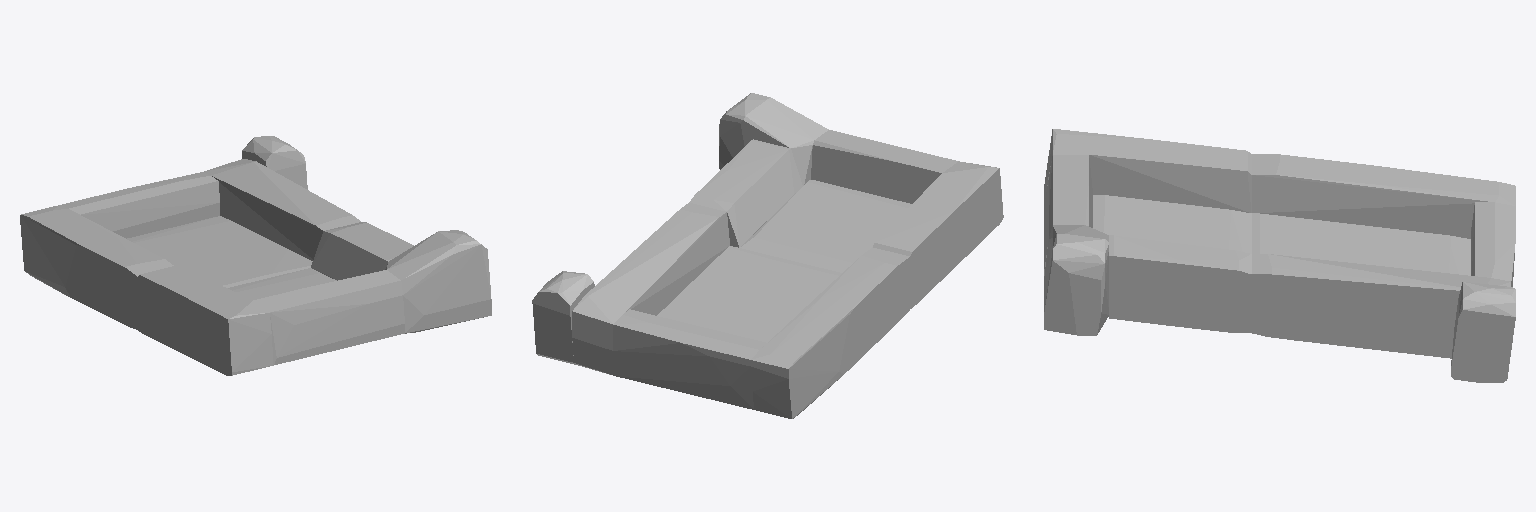
robot.urdf — root:
<robot name="root">
  <link name="link_thingiverse~hinged_lid_236246_convex_piece_0">
    <inertial>
      <origin rpy="0 0 0" xyz="0 0 0"/>
      <mass value="5.72E-02"/>
      <inertia ixx="1.08E-04" ixy="8.49E-05" ixz="-1.48E-05" iyy="9.02E-05" iyz="-1.71E-05" izz="1.89E-04"/>
    </inertial>
    <visual>
      <origin rpy="0 0 0" xyz="0 0 0"/>
      <geometry>
        <mesh filename="thingiverse~hinged_lid_236246_convex_piece_0.obj" scale="1.0000E+00 1.0000E+00 1.0000E+00"/>
      </geometry>
      <material name="">
        <color rgba="7.50E-01 7.50E-01 7.50E-01 1"/>
      </material>
    </visual>
    <collision>
      <origin rpy="0 0 0" xyz="0 0 0"/>
      <geometry>
        <mesh filename="thingiverse~hinged_lid_236246_convex_piece_0.obj" scale="1.0000E+00 1.0000E+00 1.0000E+00"/>
      </geometry>
    </collision>
  </link>
  <link name="link_thingiverse~hinged_lid_236246_convex_piece_1">
    <inertial>
      <origin rpy="0 0 0" xyz="0 0 0"/>
      <mass value="4.28E-02"/>
      <inertia ixx="1.65E-04" ixy="-9.58E-05" ixz="1.84E-05" iyy="7.04E-05" iyz="-2.93E-05" izz="2.20E-04"/>
    </inertial>
    <visual>
      <origin rpy="0 0 0" xyz="0 0 0"/>
      <geometry>
        <mesh filename="thingiverse~hinged_lid_236246_convex_piece_1.obj" scale="1.0000E+00 1.0000E+00 1.0000E+00"/>
      </geometry>
      <material name="">
        <color rgba="7.50E-01 7.50E-01 7.50E-01 1"/>
      </material>
    </visual>
    <collision>
      <origin rpy="0 0 0" xyz="0 0 0"/>
      <geometry>
        <mesh filename="thingiverse~hinged_lid_236246_convex_piece_1.obj" scale="1.0000E+00 1.0000E+00 1.0000E+00"/>
      </geometry>
    </collision>
  </link>
  <joint name="link_thingiverse~hinged_lid_236246_convex_piece_1_joint" type="fixed">
    <origin rpy="0 0 0" xyz="0 0 0"/>
    <parent link="link_thingiverse~hinged_lid_236246_convex_piece_0"/>
    <child link="link_thingiverse~hinged_lid_236246_convex_piece_1"/>
  </joint>
  <link name="link_thingiverse~hinged_lid_236246_convex_piece_2">
    <inertial>
      <origin rpy="0 0 0" xyz="0 0 0"/>
      <mass value="4.55E-02"/>
      <inertia ixx="4.94E-05" ixy="-4.05E-05" ixz="6.92E-06" iyy="4.52E-05" iyz="-7.49E-06" izz="8.91E-05"/>
    </inertial>
    <visual>
      <origin rpy="0 0 0" xyz="0 0 0"/>
      <geometry>
        <mesh filename="thingiverse~hinged_lid_236246_convex_piece_2.obj" scale="1.0000E+00 1.0000E+00 1.0000E+00"/>
      </geometry>
      <material name="">
        <color rgba="7.50E-01 7.50E-01 7.50E-01 1"/>
      </material>
    </visual>
    <collision>
      <origin rpy="0 0 0" xyz="0 0 0"/>
      <geometry>
        <mesh filename="thingiverse~hinged_lid_236246_convex_piece_2.obj" scale="1.0000E+00 1.0000E+00 1.0000E+00"/>
      </geometry>
    </collision>
  </link>
  <joint name="link_thingiverse~hinged_lid_236246_convex_piece_2_joint" type="fixed">
    <origin rpy="0 0 0" xyz="0 0 0"/>
    <parent link="link_thingiverse~hinged_lid_236246_convex_piece_1"/>
    <child link="link_thingiverse~hinged_lid_236246_convex_piece_2"/>
  </joint>
  <link name="link_thingiverse~hinged_lid_236246_convex_piece_3">
    <inertial>
      <origin rpy="0 0 0" xyz="0 0 0"/>
      <mass value="7.20E-02"/>
      <inertia ixx="1.07E-04" ixy="-8.43E-05" ixz="5.80E-06" iyy="1.10E-04" iyz="-9.09E-06" izz="2.11E-04"/>
    </inertial>
    <visual>
      <origin rpy="0 0 0" xyz="0 0 0"/>
      <geometry>
        <mesh filename="thingiverse~hinged_lid_236246_convex_piece_3.obj" scale="1.0000E+00 1.0000E+00 1.0000E+00"/>
      </geometry>
      <material name="">
        <color rgba="7.50E-01 7.50E-01 7.50E-01 1"/>
      </material>
    </visual>
    <collision>
      <origin rpy="0 0 0" xyz="0 0 0"/>
      <geometry>
        <mesh filename="thingiverse~hinged_lid_236246_convex_piece_3.obj" scale="1.0000E+00 1.0000E+00 1.0000E+00"/>
      </geometry>
    </collision>
  </link>
  <joint name="link_thingiverse~hinged_lid_236246_convex_piece_3_joint" type="fixed">
    <origin rpy="0 0 0" xyz="0 0 0"/>
    <parent link="link_thingiverse~hinged_lid_236246_convex_piece_2"/>
    <child link="link_thingiverse~hinged_lid_236246_convex_piece_3"/>
  </joint>
  <link name="link_thingiverse~hinged_lid_236246_convex_piece_4">
    <inertial>
      <origin rpy="0 0 0" xyz="0 0 0"/>
      <mass value="7.47E-02"/>
      <inertia ixx="1.13E-04" ixy="7.29E-05" ixz="-4.82E-06" iyy="7.85E-05" iyz="-9.17E-06" izz="1.84E-04"/>
    </inertial>
    <visual>
      <origin rpy="0 0 0" xyz="0 0 0"/>
      <geometry>
        <mesh filename="thingiverse~hinged_lid_236246_convex_piece_4.obj" scale="1.0000E+00 1.0000E+00 1.0000E+00"/>
      </geometry>
      <material name="">
        <color rgba="7.50E-01 7.50E-01 7.50E-01 1"/>
      </material>
    </visual>
    <collision>
      <origin rpy="0 0 0" xyz="0 0 0"/>
      <geometry>
        <mesh filename="thingiverse~hinged_lid_236246_convex_piece_4.obj" scale="1.0000E+00 1.0000E+00 1.0000E+00"/>
      </geometry>
    </collision>
  </link>
  <joint name="link_thingiverse~hinged_lid_236246_convex_piece_4_joint" type="fixed">
    <origin rpy="0 0 0" xyz="0 0 0"/>
    <parent link="link_thingiverse~hinged_lid_236246_convex_piece_3"/>
    <child link="link_thingiverse~hinged_lid_236246_convex_piece_4"/>
  </joint>
  <link name="link_thingiverse~hinged_lid_236246_convex_piece_5">
    <inertial>
      <origin rpy="0 0 0" xyz="0 0 0"/>
      <mass value="1.87E-02"/>
      <inertia ixx="7.26E-05" ixy="5.34E-05" ixz="-2.88E-06" iyy="4.18E-05" iyz="-3.72E-06" izz="1.12E-04"/>
    </inertial>
    <visual>
      <origin rpy="0 0 0" xyz="0 0 0"/>
      <geometry>
        <mesh filename="thingiverse~hinged_lid_236246_convex_piece_5.obj" scale="1.0000E+00 1.0000E+00 1.0000E+00"/>
      </geometry>
      <material name="">
        <color rgba="7.50E-01 7.50E-01 7.50E-01 1"/>
      </material>
    </visual>
    <collision>
      <origin rpy="0 0 0" xyz="0 0 0"/>
      <geometry>
        <mesh filename="thingiverse~hinged_lid_236246_convex_piece_5.obj" scale="1.0000E+00 1.0000E+00 1.0000E+00"/>
      </geometry>
    </collision>
  </link>
  <joint name="link_thingiverse~hinged_lid_236246_convex_piece_5_joint" type="fixed">
    <origin rpy="0 0 0" xyz="0 0 0"/>
    <parent link="link_thingiverse~hinged_lid_236246_convex_piece_4"/>
    <child link="link_thingiverse~hinged_lid_236246_convex_piece_5"/>
  </joint>
  <link name="link_thingiverse~hinged_lid_236246_convex_piece_6">
    <inertial>
      <origin rpy="0 0 0" xyz="0 0 0"/>
      <mass value="3.83E-02"/>
      <inertia ixx="1.55E-04" ixy="1.27E-05" ixz="-1.87E-06" iyy="1.35E-05" iyz="-2.20E-05" izz="1.60E-04"/>
    </inertial>
    <visual>
      <origin rpy="0 0 0" xyz="0 0 0"/>
      <geometry>
        <mesh filename="thingiverse~hinged_lid_236246_convex_piece_6.obj" scale="1.0000E+00 1.0000E+00 1.0000E+00"/>
      </geometry>
      <material name="">
        <color rgba="7.50E-01 7.50E-01 7.50E-01 1"/>
      </material>
    </visual>
    <collision>
      <origin rpy="0 0 0" xyz="0 0 0"/>
      <geometry>
        <mesh filename="thingiverse~hinged_lid_236246_convex_piece_6.obj" scale="1.0000E+00 1.0000E+00 1.0000E+00"/>
      </geometry>
    </collision>
  </link>
  <joint name="link_thingiverse~hinged_lid_236246_convex_piece_6_joint" type="fixed">
    <origin rpy="0 0 0" xyz="0 0 0"/>
    <parent link="link_thingiverse~hinged_lid_236246_convex_piece_5"/>
    <child link="link_thingiverse~hinged_lid_236246_convex_piece_6"/>
  </joint>
  <link name="link_thingiverse~hinged_lid_236246_convex_piece_7">
    <inertial>
      <origin rpy="0 0 0" xyz="0 0 0"/>
      <mass value="5.51E-02"/>
      <inertia ixx="6.69E-05" ixy="9.44E-06" ixz="1.19E-07" iyy="1.35E-05" iyz="-4.24E-07" izz="7.94E-05"/>
    </inertial>
    <visual>
      <origin rpy="0 0 0" xyz="0 0 0"/>
      <geometry>
        <mesh filename="thingiverse~hinged_lid_236246_convex_piece_7.obj" scale="1.0000E+00 1.0000E+00 1.0000E+00"/>
      </geometry>
      <material name="">
        <color rgba="7.50E-01 7.50E-01 7.50E-01 1"/>
      </material>
    </visual>
    <collision>
      <origin rpy="0 0 0" xyz="0 0 0"/>
      <geometry>
        <mesh filename="thingiverse~hinged_lid_236246_convex_piece_7.obj" scale="1.0000E+00 1.0000E+00 1.0000E+00"/>
      </geometry>
    </collision>
  </link>
  <joint name="link_thingiverse~hinged_lid_236246_convex_piece_7_joint" type="fixed">
    <origin rpy="0 0 0" xyz="0 0 0"/>
    <parent link="link_thingiverse~hinged_lid_236246_convex_piece_6"/>
    <child link="link_thingiverse~hinged_lid_236246_convex_piece_7"/>
  </joint>
  <link name="link_thingiverse~hinged_lid_236246_convex_piece_8">
    <inertial>
      <origin rpy="0 0 0" xyz="0 0 0"/>
      <mass value="8.21E-02"/>
      <inertia ixx="8.56E-05" ixy="-7.20E-06" ixz="2.23E-06" iyy="2.67E-05" iyz="-1.98E-05" izz="1.00E-04"/>
    </inertial>
    <visual>
      <origin rpy="0 0 0" xyz="0 0 0"/>
      <geometry>
        <mesh filename="thingiverse~hinged_lid_236246_convex_piece_8.obj" scale="1.0000E+00 1.0000E+00 1.0000E+00"/>
      </geometry>
      <material name="">
        <color rgba="7.50E-01 7.50E-01 7.50E-01 1"/>
      </material>
    </visual>
    <collision>
      <origin rpy="0 0 0" xyz="0 0 0"/>
      <geometry>
        <mesh filename="thingiverse~hinged_lid_236246_convex_piece_8.obj" scale="1.0000E+00 1.0000E+00 1.0000E+00"/>
      </geometry>
    </collision>
  </link>
  <joint name="link_thingiverse~hinged_lid_236246_convex_piece_8_joint" type="fixed">
    <origin rpy="0 0 0" xyz="0 0 0"/>
    <parent link="link_thingiverse~hinged_lid_236246_convex_piece_7"/>
    <child link="link_thingiverse~hinged_lid_236246_convex_piece_8"/>
  </joint>
  <link name="link_thingiverse~hinged_lid_236246_convex_piece_9">
    <inertial>
      <origin rpy="0 0 0" xyz="0 0 0"/>
      <mass value="3.72E-02"/>
      <inertia ixx="1.55E-04" ixy="-8.84E-06" ixz="8.42E-07" iyy="1.21E-05" iyz="-1.51E-05" izz="1.62E-04"/>
    </inertial>
    <visual>
      <origin rpy="0 0 0" xyz="0 0 0"/>
      <geometry>
        <mesh filename="thingiverse~hinged_lid_236246_convex_piece_9.obj" scale="1.0000E+00 1.0000E+00 1.0000E+00"/>
      </geometry>
      <material name="">
        <color rgba="7.50E-01 7.50E-01 7.50E-01 1"/>
      </material>
    </visual>
    <collision>
      <origin rpy="0 0 0" xyz="0 0 0"/>
      <geometry>
        <mesh filename="thingiverse~hinged_lid_236246_convex_piece_9.obj" scale="1.0000E+00 1.0000E+00 1.0000E+00"/>
      </geometry>
    </collision>
  </link>
  <joint name="link_thingiverse~hinged_lid_236246_convex_piece_9_joint" type="fixed">
    <origin rpy="0 0 0" xyz="0 0 0"/>
    <parent link="link_thingiverse~hinged_lid_236246_convex_piece_8"/>
    <child link="link_thingiverse~hinged_lid_236246_convex_piece_9"/>
  </joint>
</robot>

--- Render facts (derived) ---
3 views of the same robot in one strip: view 1: azimuth 30°, elevation 25°; view 2: azimuth 150°, elevation 25°; view 3: azimuth 270°, elevation 25° (orthographic).
Model root with 10 links and 9 joints (9 fixed), rooted at link_thingiverse~hinged_lid_236246_convex_piece_0, posed all joints at 0.
Visible links, largest first — view 1: link_thingiverse~hinged_lid_236246_convex_piece_0, link_thingiverse~hinged_lid_236246_convex_piece_3, link_thingiverse~hinged_lid_236246_convex_piece_6, link_thingiverse~hinged_lid_236246_convex_piece_1, link_thingiverse~hinged_lid_236246_convex_piece_4, link_thingiverse~hinged_lid_236246_convex_piece_8, link_thingiverse~hinged_lid_236246_convex_piece_9, link_thingiverse~hinged_lid_236246_convex_piece_2, link_thingiverse~hinged_lid_236246_convex_piece_5, link_thingiverse~hinged_lid_236246_convex_piece_7; view 2: link_thingiverse~hinged_lid_236246_convex_piece_3, link_thingiverse~hinged_lid_236246_convex_piece_4, link_thingiverse~hinged_lid_236246_convex_piece_8, link_thingiverse~hinged_lid_236246_convex_piece_9, link_thingiverse~hinged_lid_236246_convex_piece_0, link_thingiverse~hinged_lid_236246_convex_piece_7, link_thingiverse~hinged_lid_236246_convex_piece_6, link_thingiverse~hinged_lid_236246_convex_piece_2, link_thingiverse~hinged_lid_236246_convex_piece_1, link_thingiverse~hinged_lid_236246_convex_piece_5; view 3: link_thingiverse~hinged_lid_236246_convex_piece_4, link_thingiverse~hinged_lid_236246_convex_piece_3, link_thingiverse~hinged_lid_236246_convex_piece_2, link_thingiverse~hinged_lid_236246_convex_piece_0, link_thingiverse~hinged_lid_236246_convex_piece_8, link_thingiverse~hinged_lid_236246_convex_piece_1, link_thingiverse~hinged_lid_236246_convex_piece_7, link_thingiverse~hinged_lid_236246_convex_piece_5, link_thingiverse~hinged_lid_236246_convex_piece_6, link_thingiverse~hinged_lid_236246_convex_piece_9.
Link boxes in pixels (x1,y1,x2,y2): link_thingiverse~hinged_lid_236246_convex_piece_0: (138, 265, 273, 375); link_thingiverse~hinged_lid_236246_convex_piece_3: (20, 205, 173, 329); link_thingiverse~hinged_lid_236246_convex_piece_6: (253, 270, 404, 364); link_thingiverse~hinged_lid_236246_convex_piece_1: (385, 230, 491, 333); link_thingiverse~hinged_lid_236246_convex_piece_4: (203, 159, 360, 260); link_thingiverse~hinged_lid_236246_convex_piece_8: (127, 216, 312, 287); link_thingiverse~hinged_lid_236246_convex_piece_9: (60, 172, 219, 238); link_thingiverse~hinged_lid_236246_convex_piece_2: (311, 222, 413, 280); link_thingiverse~hinged_lid_236246_convex_piece_5: (242, 136, 307, 189); link_thingiverse~hinged_lid_236246_convex_piece_7: (228, 268, 336, 299); link_thingiverse~hinged_lid_236246_convex_piece_3: (751, 247, 909, 418); link_thingiverse~hinged_lid_236246_convex_piece_4: (572, 203, 729, 375); link_thingiverse~hinged_lid_236246_convex_piece_8: (657, 246, 841, 342); link_thingiverse~hinged_lid_236246_convex_piece_9: (613, 309, 766, 409); link_thingiverse~hinged_lid_236246_convex_piece_0: (873, 161, 1003, 308); link_thingiverse~hinged_lid_236246_convex_piece_7: (740, 180, 911, 272); link_thingiverse~hinged_lid_236246_convex_piece_6: (811, 130, 957, 203); link_thingiverse~hinged_lid_236246_convex_piece_2: (689, 139, 802, 247); link_thingiverse~hinged_lid_236246_convex_piece_1: (719, 93, 828, 185); link_thingiverse~hinged_lid_236246_convex_piece_5: (532, 271, 594, 364); link_thingiverse~hinged_lid_236246_convex_piece_4: (1252, 254, 1510, 358); link_thingiverse~hinged_lid_236246_convex_piece_3: (1252, 154, 1515, 238); link_thingiverse~hinged_lid_236246_convex_piece_2: (1109, 235, 1251, 332); link_thingiverse~hinged_lid_236246_convex_piece_0: (1044, 129, 1251, 212); link_thingiverse~hinged_lid_236246_convex_piece_8: (1252, 213, 1470, 275); link_thingiverse~hinged_lid_236246_convex_piece_1: (1044, 225, 1108, 335); link_thingiverse~hinged_lid_236246_convex_piece_7: (1093, 195, 1251, 253); link_thingiverse~hinged_lid_236246_convex_piece_5: (1451, 282, 1515, 382); link_thingiverse~hinged_lid_236246_convex_piece_6: (1044, 155, 1092, 275); link_thingiverse~hinged_lid_236246_convex_piece_9: (1471, 202, 1515, 286).
Bounding box of the posed robot: 0.0999 × 0.1414 × 0.0439 m (x, y, z).
Meshes: 10 distinct files referenced, 10 mesh visuals loaded (10 OBJ).
